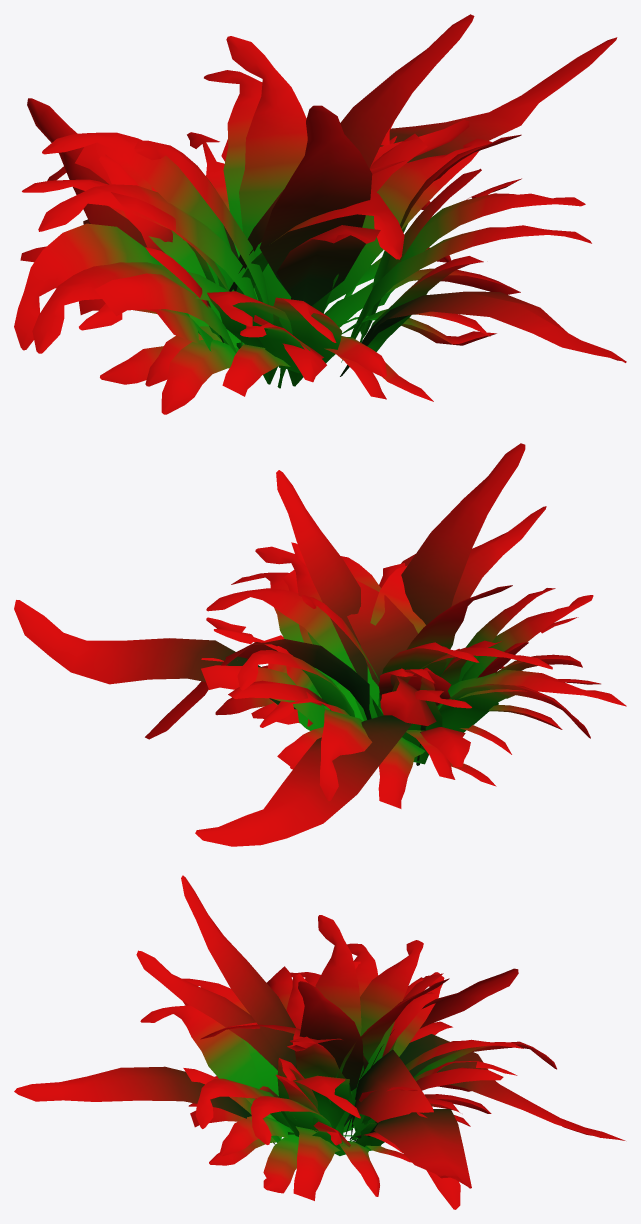
The model's file is Var3_LOD0.fbx.
The picture shows the model from 3 angles, top to bottom: view 1: azimuth 30°, elevation 25°; view 2: azimuth 150°, elevation 25°; view 3: azimuth 270°, elevation 25°; orthographic projection. The views are drawn at different scales.
Parts seen in each view (by area): view 1: _046a_Var3_LOD0; view 2: _046a_Var3_LOD0; view 3: _046a_Var3_LOD0.
Part boxes in pixels (x1,y1,x2,y2): _046a_Var3_LOD0: (14,14,626,414); _046a_Var3_LOD0: (14,443,626,846); _046a_Var3_LOD0: (14,875,625,1209).
Size of the model in its own units: 16.18 by 7.72 by 17.58.
